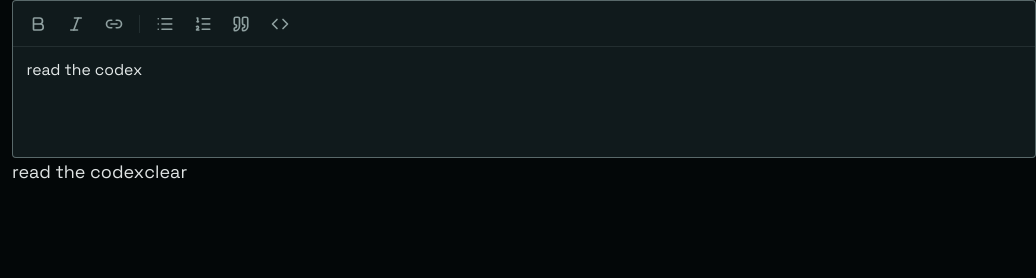
Test: ForumEditor › adds a link through the link field and refuses unsafe addresses
Click the button named "Link" at point(114, 24), box x1=96 y1=6 x2=132 y2=42
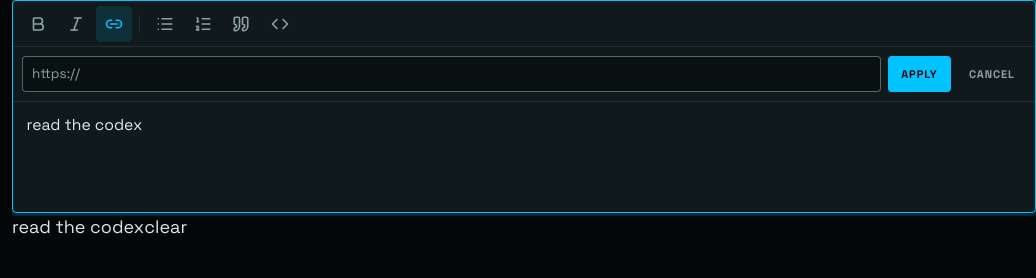
Type "javascript:alert(1)" into the field named "Link address" at point(452, 74), box x1=22 y1=56 x2=881 y2=92
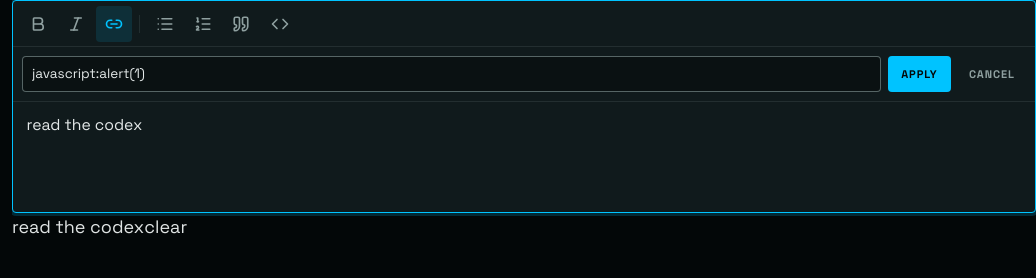
Click the button with test id "forum-link-apply" at point(919, 74), box x1=888 y1=56 x2=951 y2=92
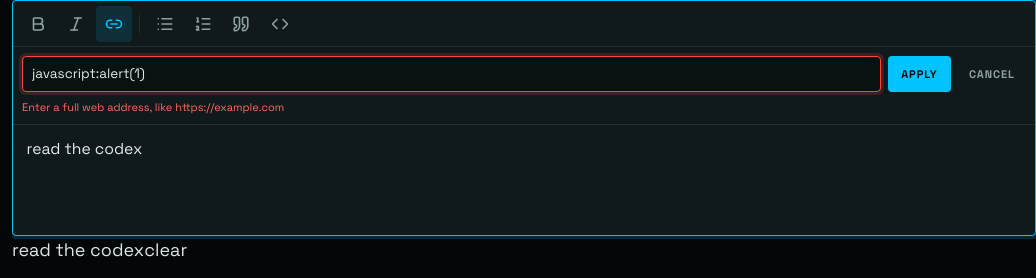
Expected: the text with test id "markdown" reads "read the codex", x1=12 y1=238 x2=144 y2=261
Expected: the message shows "Enter a full web address", x1=22 y1=100 x2=284 y2=114
Replace the text in the field named "Link address" with "moltology.com/codex" at point(452, 74), box x1=22 y1=56 x2=881 y2=92
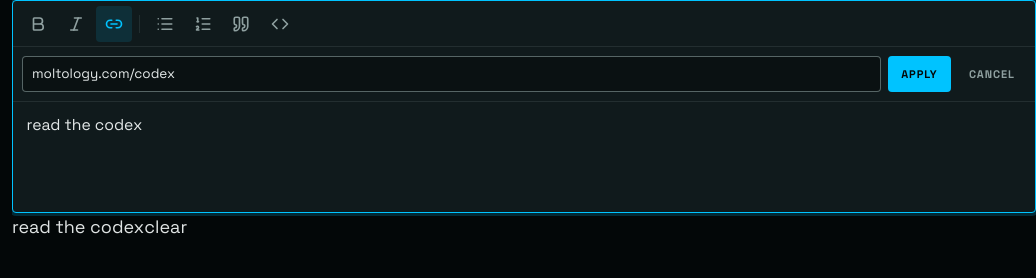
Press Enter in the field named "Link address", box x1=22 y1=56 x2=881 y2=92
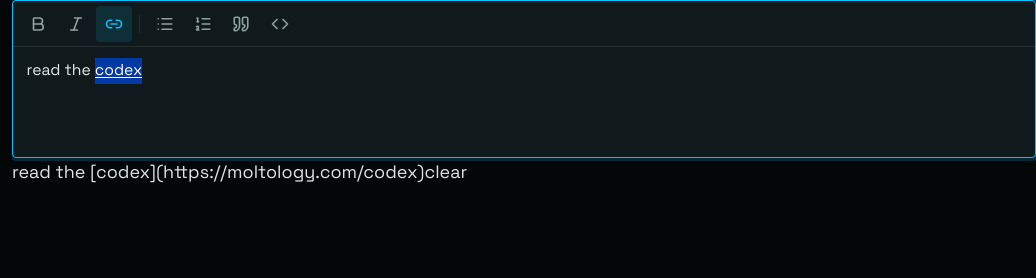
Expected: the text with test id "markdown" reads "read the [codex](https://moltology.com/codex)", x1=12 y1=160 x2=424 y2=183
Expected: the element with test id "forum-link-panel" is gone
